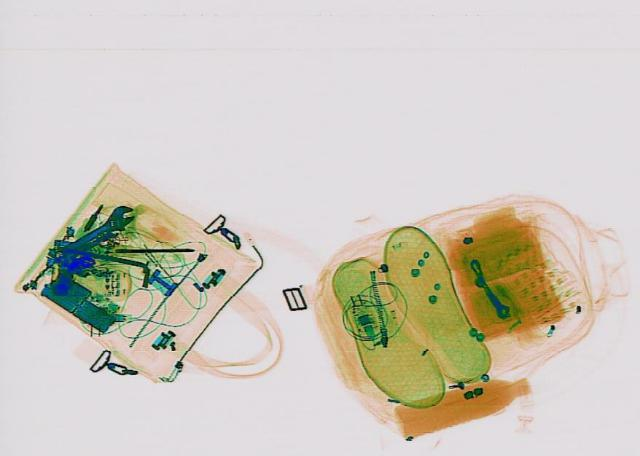Wrench: (38, 200, 144, 266), (53, 224, 119, 262)
